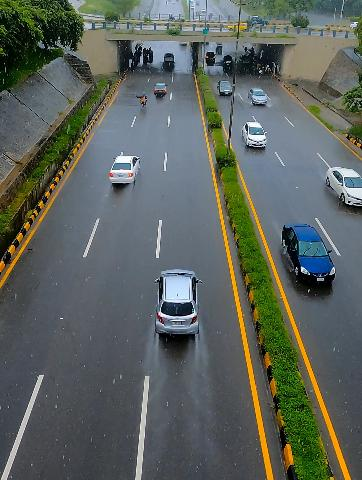car: (280, 222, 341, 295), (157, 266, 205, 341), (325, 161, 362, 211), (110, 155, 145, 185), (240, 120, 270, 153), (249, 84, 270, 109), (216, 76, 237, 98), (152, 82, 171, 97), (205, 51, 217, 63), (163, 53, 176, 64), (223, 55, 236, 65)
motorcycle: (140, 91, 148, 111)
